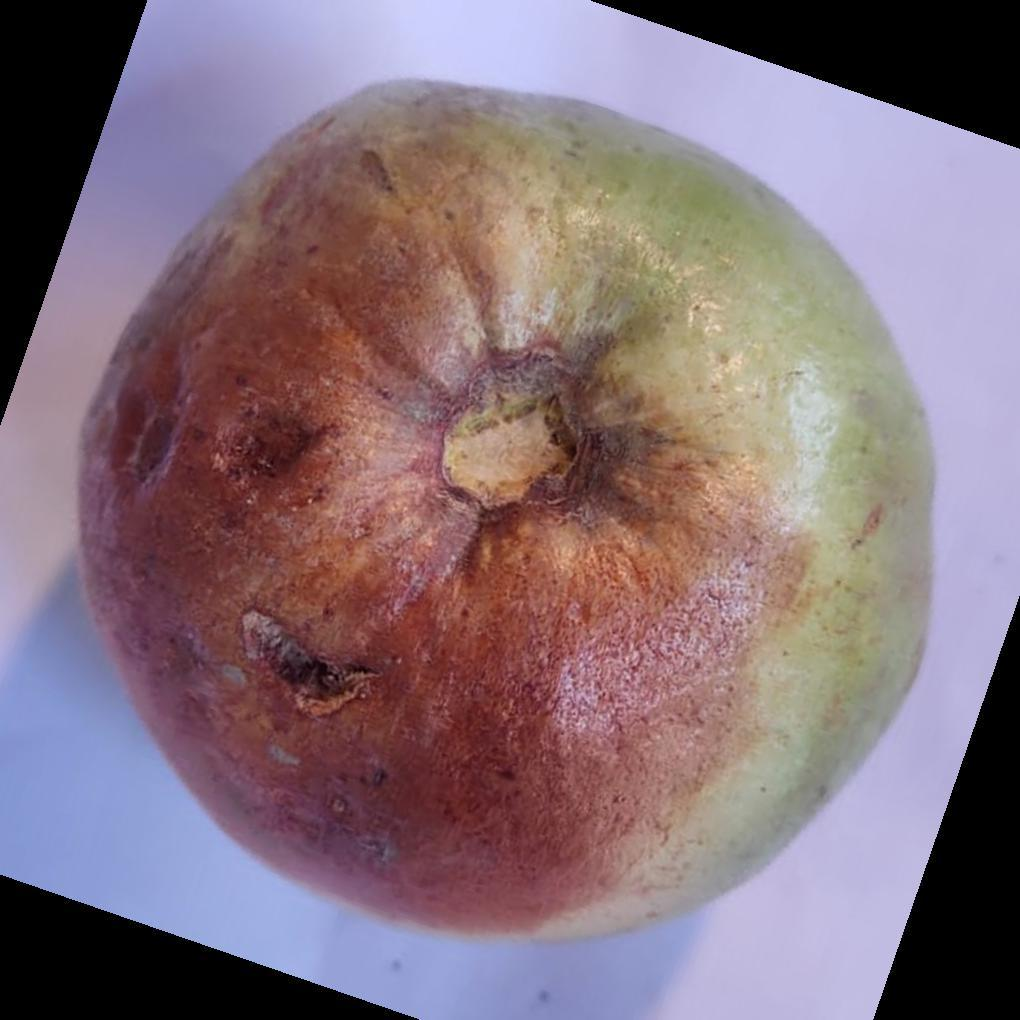FreshOrange: (78, 84, 934, 949)
